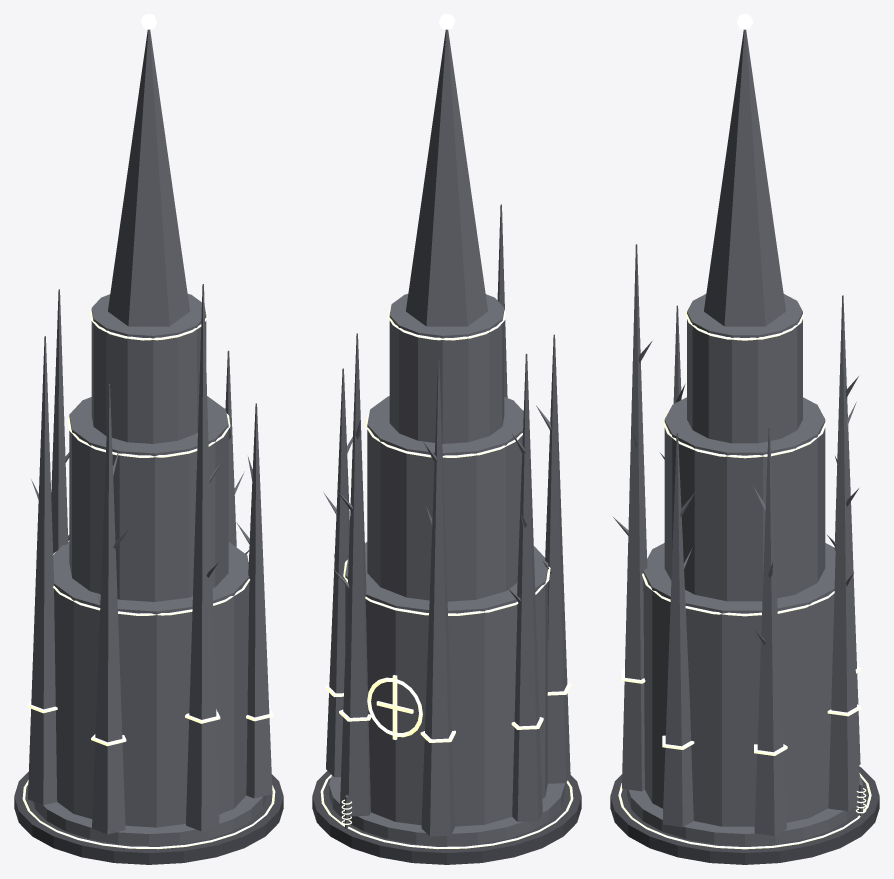
Rendered from zone_high_6_t5.glb.
The picture shows the model from 3 angles, left to right: view 1: azimuth 30°, elevation 25°; view 2: azimuth 150°, elevation 25°; view 3: azimuth 270°, elevation 25°; orthographic projection.
Visible parts, largest first — view 1: zone_high_6_t5; view 2: zone_high_6_t5; view 3: zone_high_6_t5.
Boxes of the visible parts, x1,y1,x2,y2 form: zone_high_6_t5: (14,14,283,864); zone_high_6_t5: (312,14,581,864); zone_high_6_t5: (610,14,879,864).
Size of the model in its own units: 28.8 by 93.6 by 28.8.
